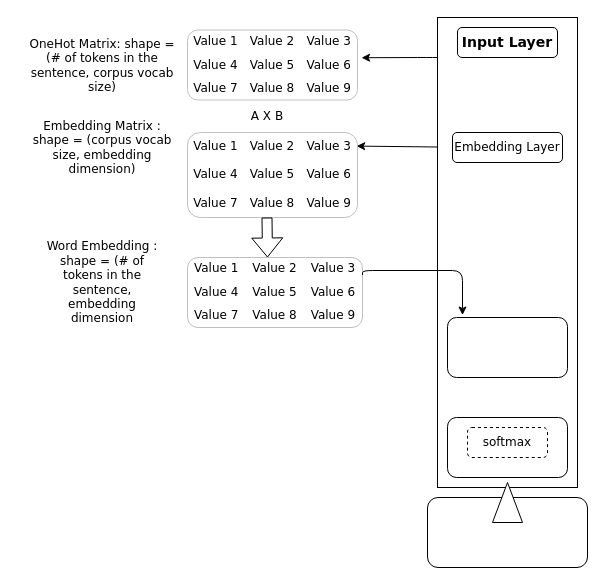
Image size: 605x585. Some labels were removed from this diagram. Here are the shapes that lost their labels. From the top down, the box of each, then its label:
(446, 316, 568, 378): Core Encoder
(446, 416, 568, 478): Decoder
(426, 496, 588, 568): Pre-trained Model
